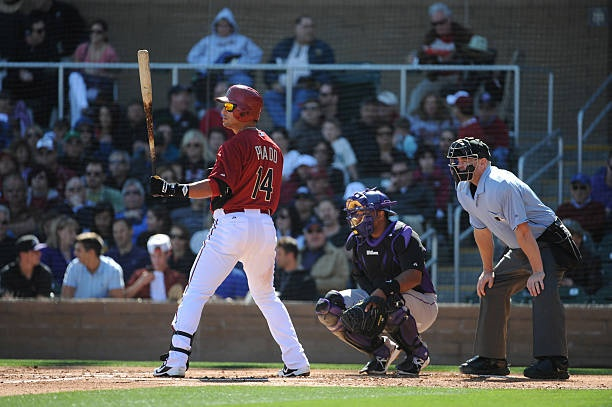bita: (135, 50, 159, 182)
